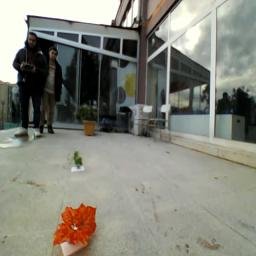herb: (73, 152, 85, 170)
wild: (53, 203, 99, 250)
